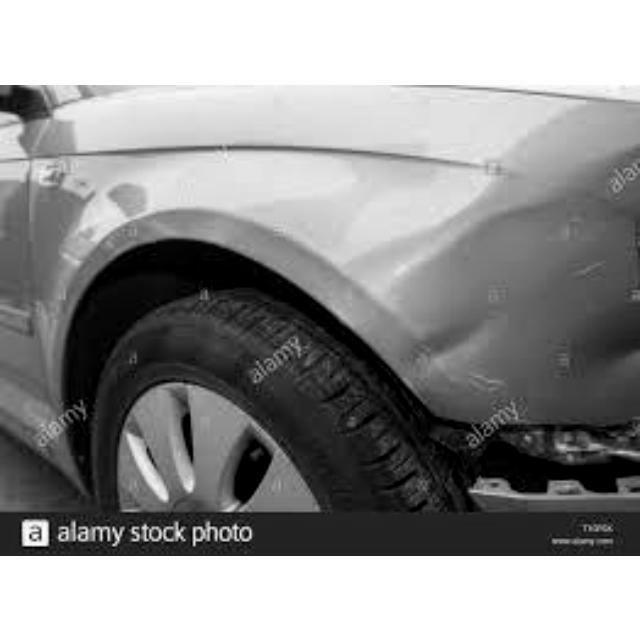fender-dent: (35, 101, 638, 423)
